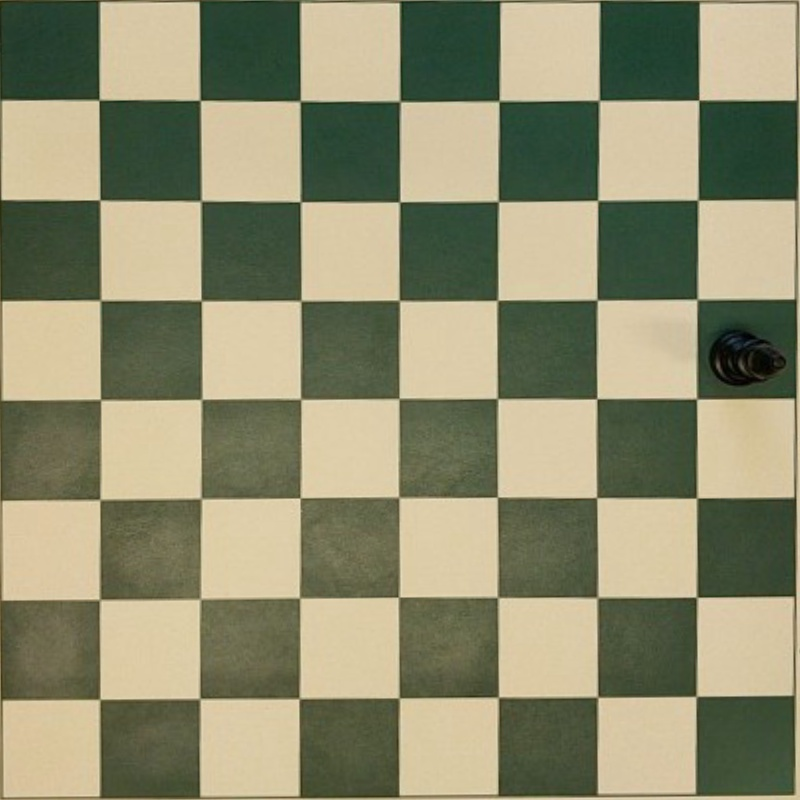black-bishop: (710, 329, 788, 385)
